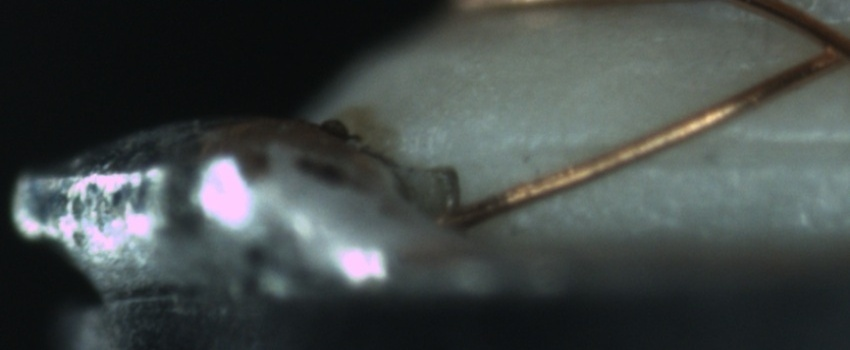CL: (795, 15, 849, 78)
DL: (523, 114, 850, 181)
